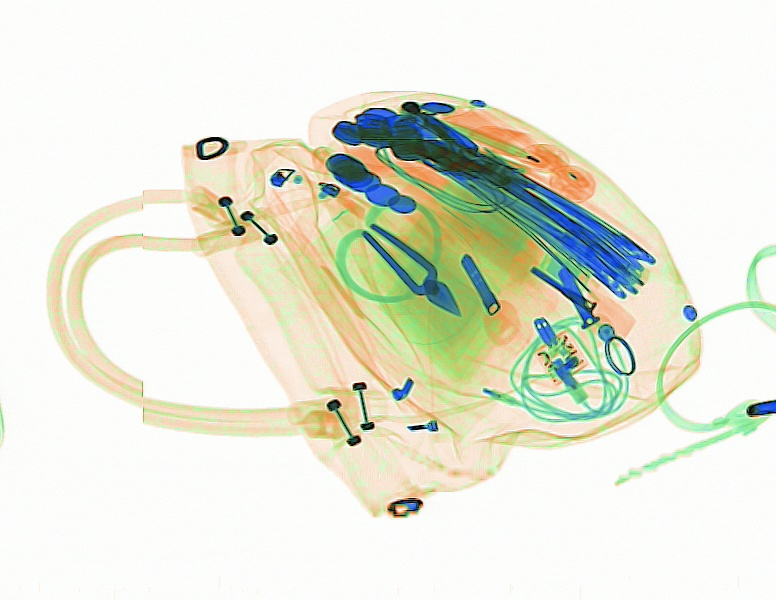scissors: (332, 197, 462, 320)
